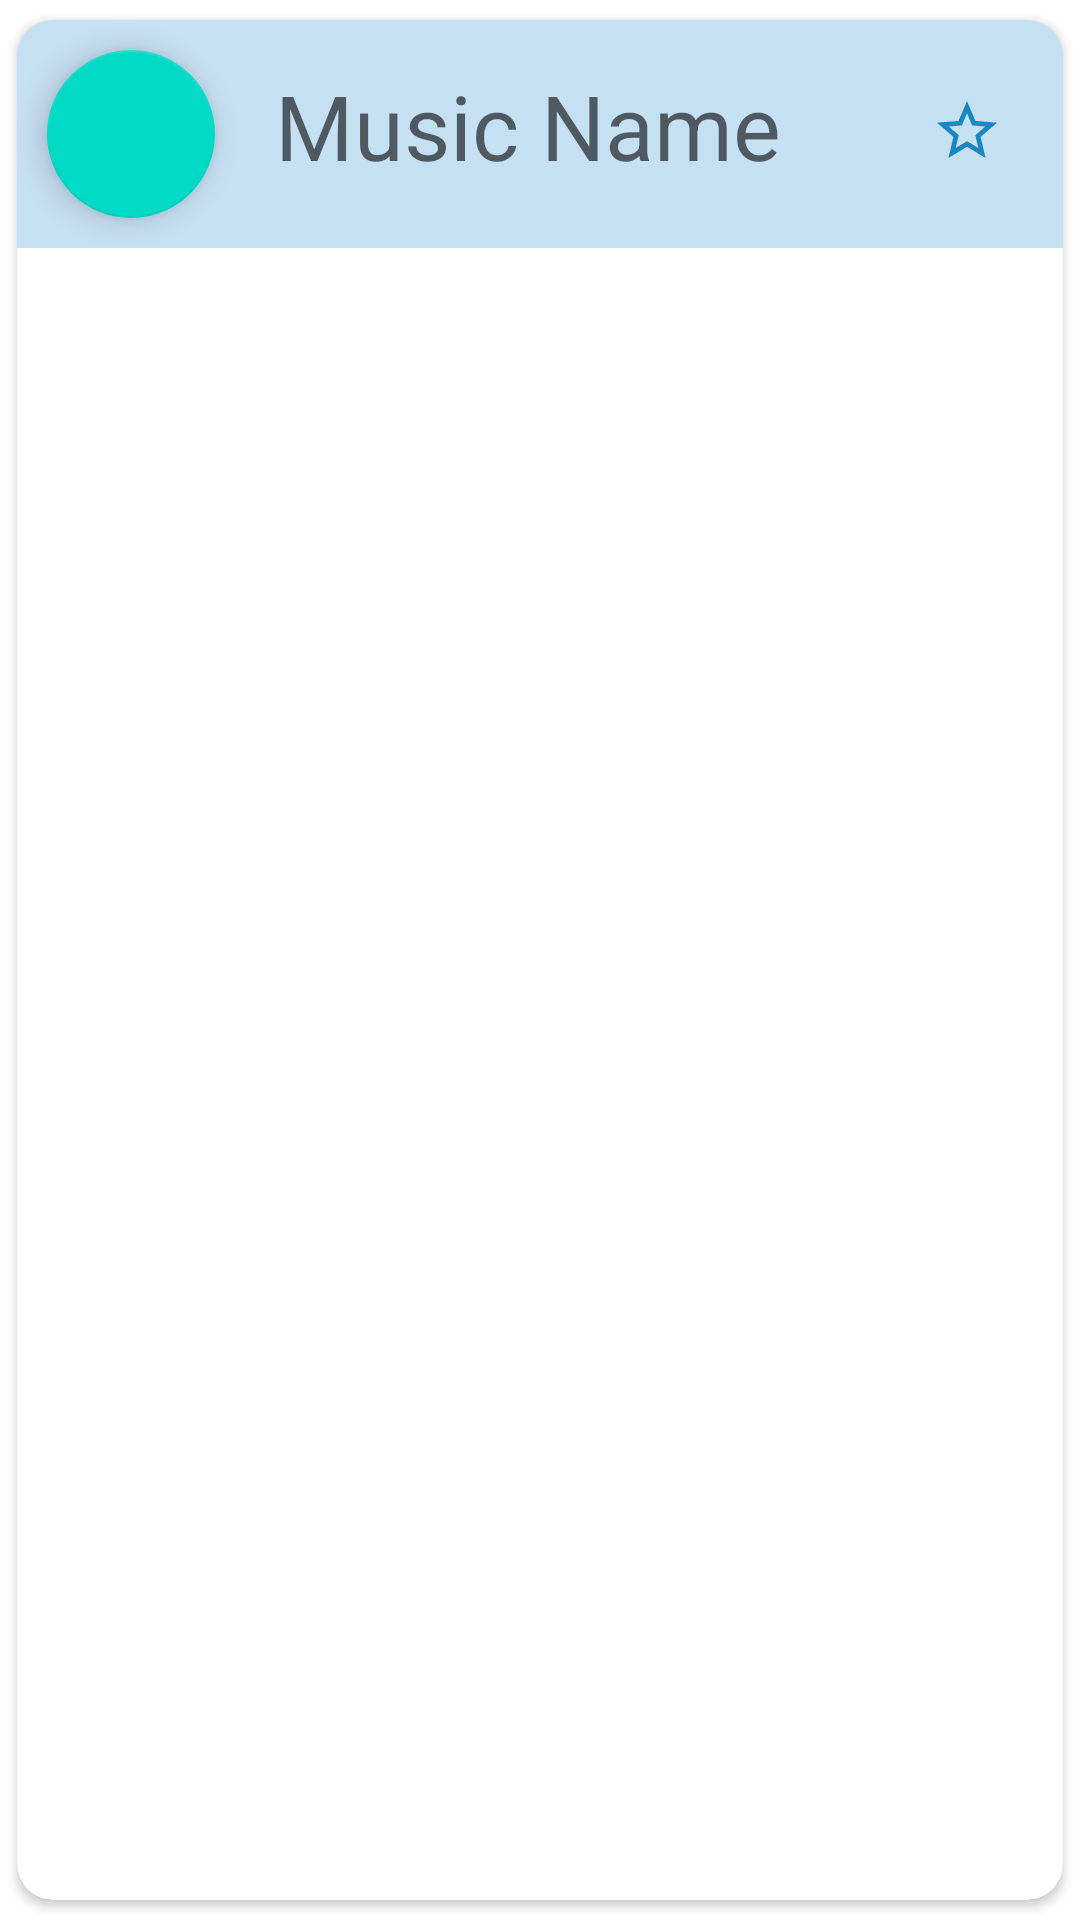

Icon bounding boxes for this 1080px x 1920px phone screenshot, format (x1, y1, x2, y2):
unlikeicon: (937, 101, 997, 158)
